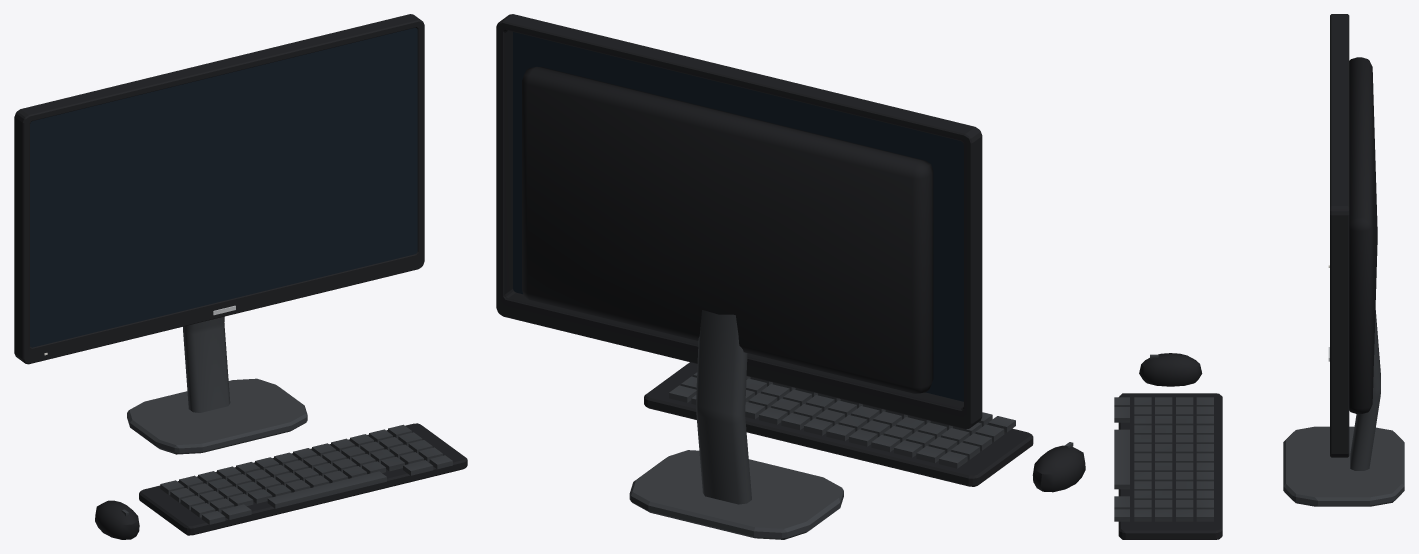
The model's file is monitor.glb.
3 views of the same model, side by side, from view 1: azimuth 30°, elevation 25°; view 2: azimuth 150°, elevation 25°; view 3: azimuth 270°, elevation 25° (orthographic). The views are drawn at different scales.
Parts seen in each view (by area): view 1: monitor; view 2: monitor; view 3: monitor.
Part boxes in pixels (<box>): monitor: <box>14,14,467,539</box>; monitor: <box>496,14,1085,539</box>; monitor: <box>1114,14,1404,539</box>.
Size of the model in its own units: 0.5425 by 0.46 by 0.335.
